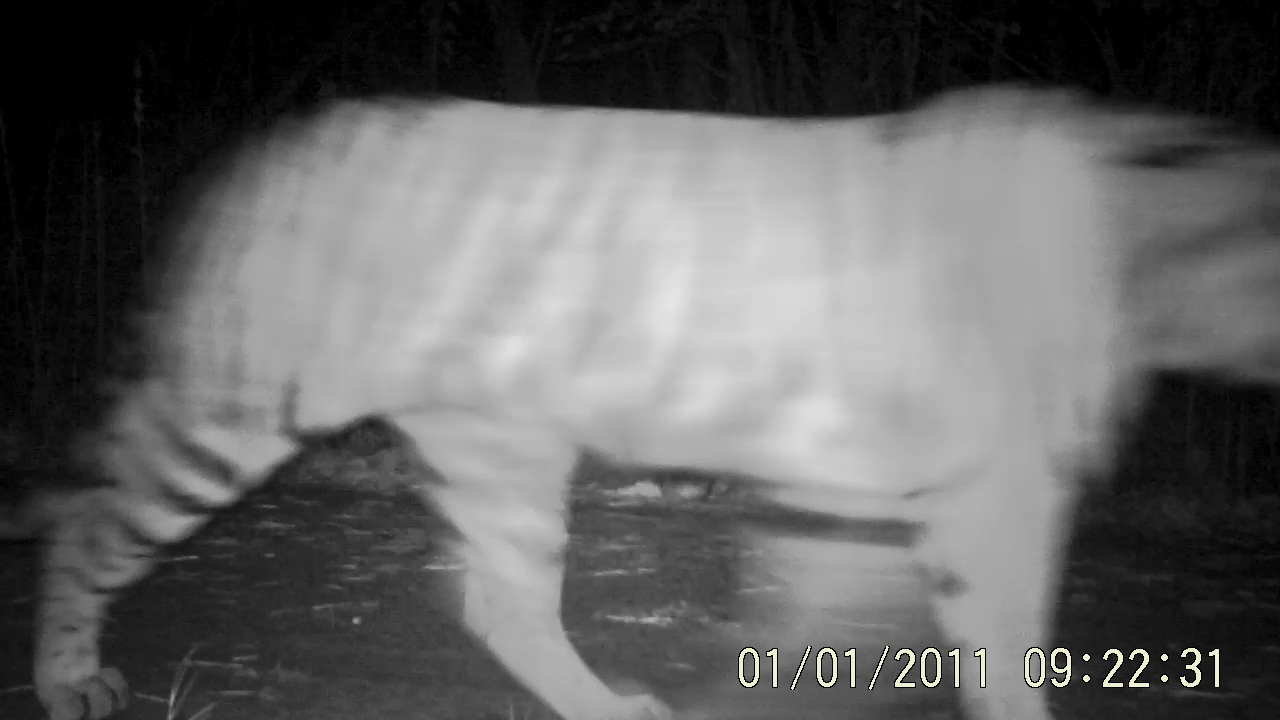Tiger: (21, 17, 1280, 712)
